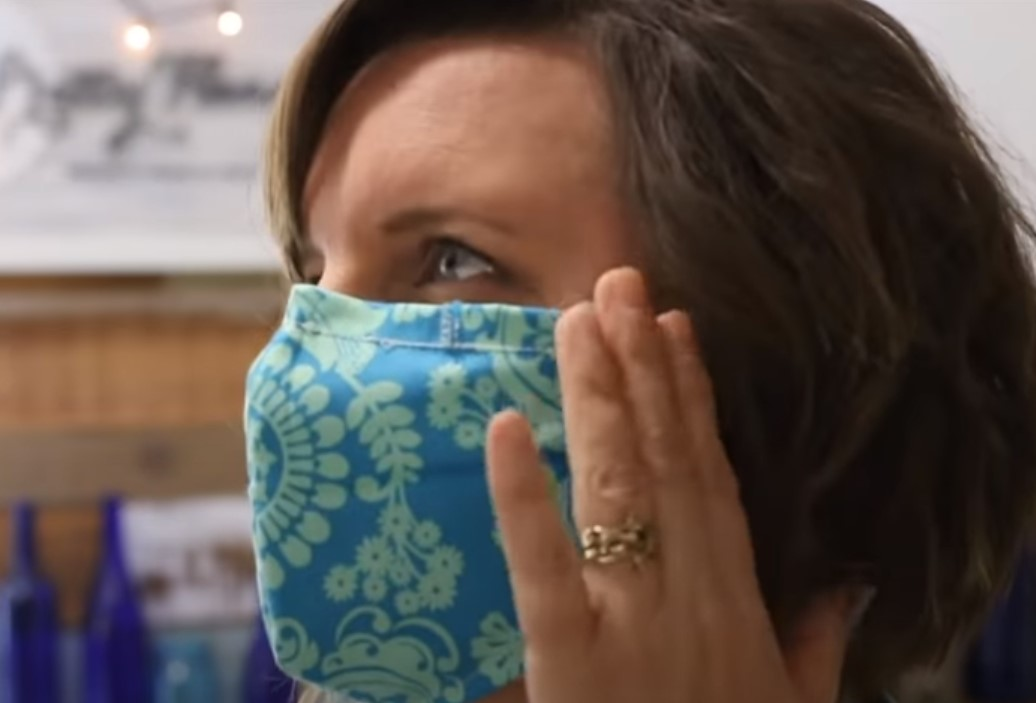face_with_mask: (240, 2, 1011, 698)
